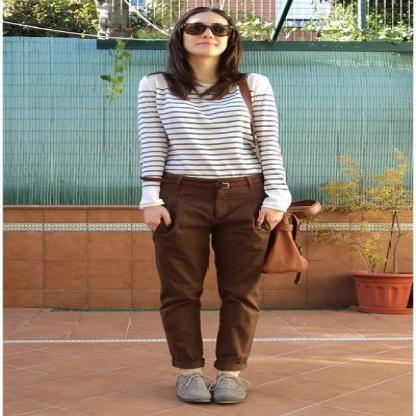bag: (267, 225, 311, 269)
pants: (152, 175, 285, 370)
shirt: (137, 75, 291, 211)
shoe: (178, 368, 250, 402)
sunglass: (205, 16, 243, 38)
